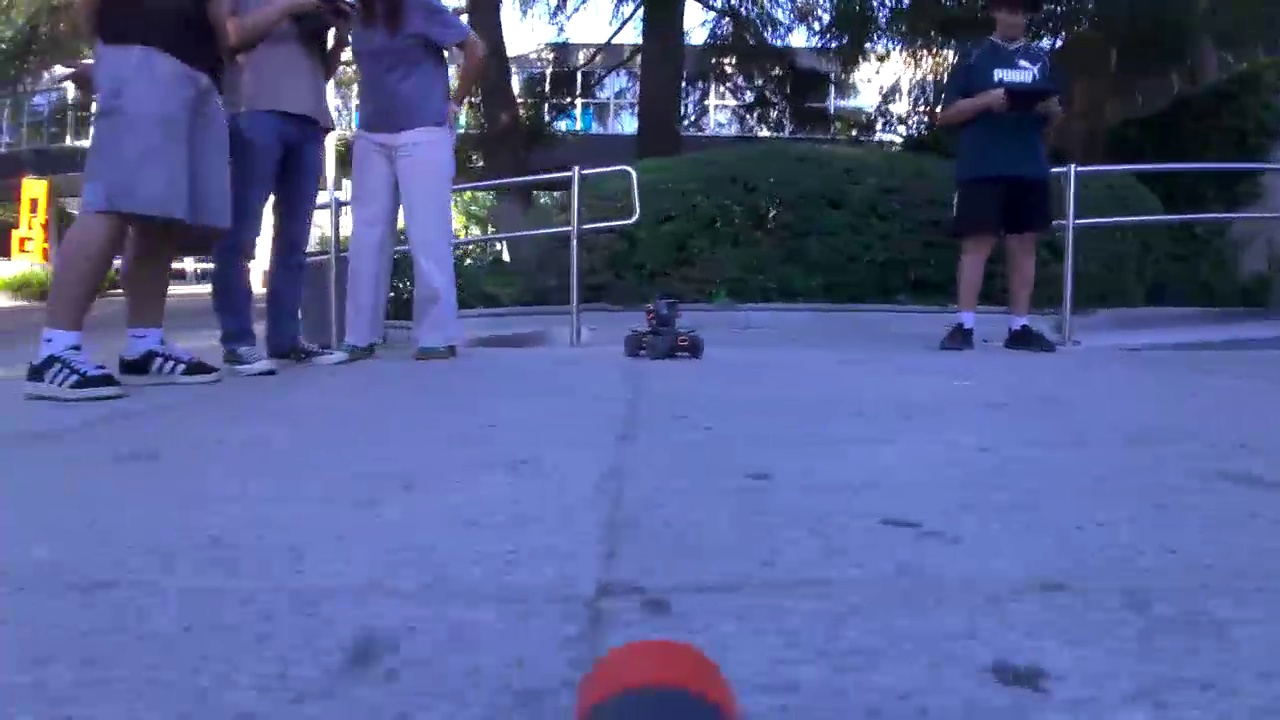robot: (624, 294, 706, 361)
